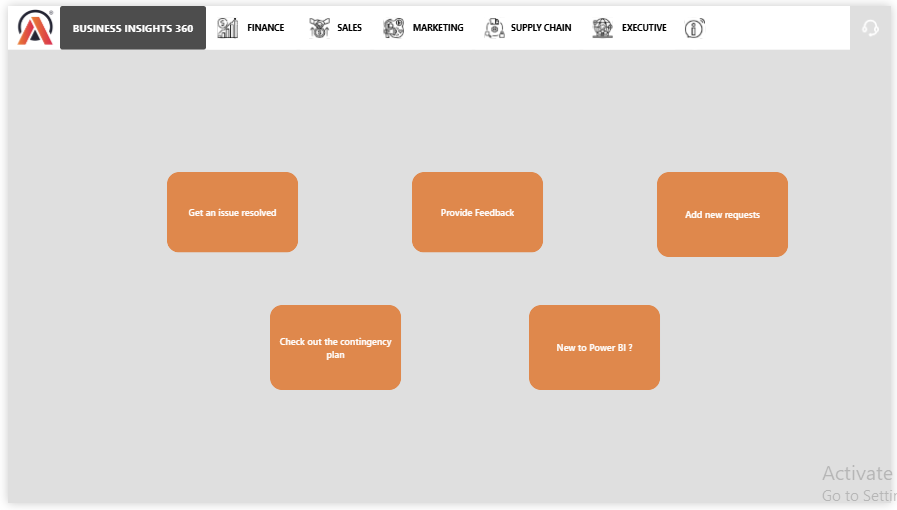

This screenshot's page, from the dashboard's own definition file:
{"tool":"powerbi","page":{"name":"Support Page","canvas":[1920,1080],"ordinal":6},"visuals":[{"type":"textbox","box":[1830,0,90,95],"z":0},{"type":"textbox","box":[0,0,1905,95],"z":1000},{"type":"image","box":[15,7.5,90,77.5],"z":2000},{"type":"actionButton","box":[112.5,0,317.5,95],"z":3000},{"type":"actionButton","box":[432.5,0,197.5,95],"z":4000},{"type":"actionButton","box":[632.5,0,157.5,95],"z":5000},{"type":"actionButton","box":[792.5,0,217.5,95],"z":6000},{"type":"actionButton","box":[1012.5,0,232.5,95],"z":7000},{"type":"actionButton","box":[1247.5,0,205,95],"z":8000},{"type":"actionButton","box":[1830,0,90,96],"z":9000},{"type":"actionButton","box":[1455,0,77.5,95],"z":10000},{"type":"actionButton","box":[345,360,285,175],"z":11000},{"type":"actionButton","box":[877.5,360,285,175],"z":12000},{"type":"actionButton","box":[1410,360,285,185],"z":13000},{"type":"actionButton","box":[570,650,285,185],"z":14000},{"type":"actionButton","box":[1132.5,650,285,185],"z":15000}]}

Visuals, with their boxes on the page's 1920x1080 design canvas (x1, y1, x2, y2). These are canvas units, not pixel positions in the 897x510 screenshot, which may show the page scaled, cropped or inside an application window:
textbox: 1830 0 1920 95
textbox: 0 0 1905 95
image: 15 8 105 85
actionButton: 112 0 430 95
actionButton: 432 0 630 95
actionButton: 632 0 790 95
actionButton: 792 0 1010 95
actionButton: 1012 0 1245 95
actionButton: 1248 0 1452 95
actionButton: 1830 0 1920 96
actionButton: 1455 0 1532 95
actionButton: 345 360 630 535
actionButton: 878 360 1162 535
actionButton: 1410 360 1695 545
actionButton: 570 650 855 835
actionButton: 1132 650 1418 835
